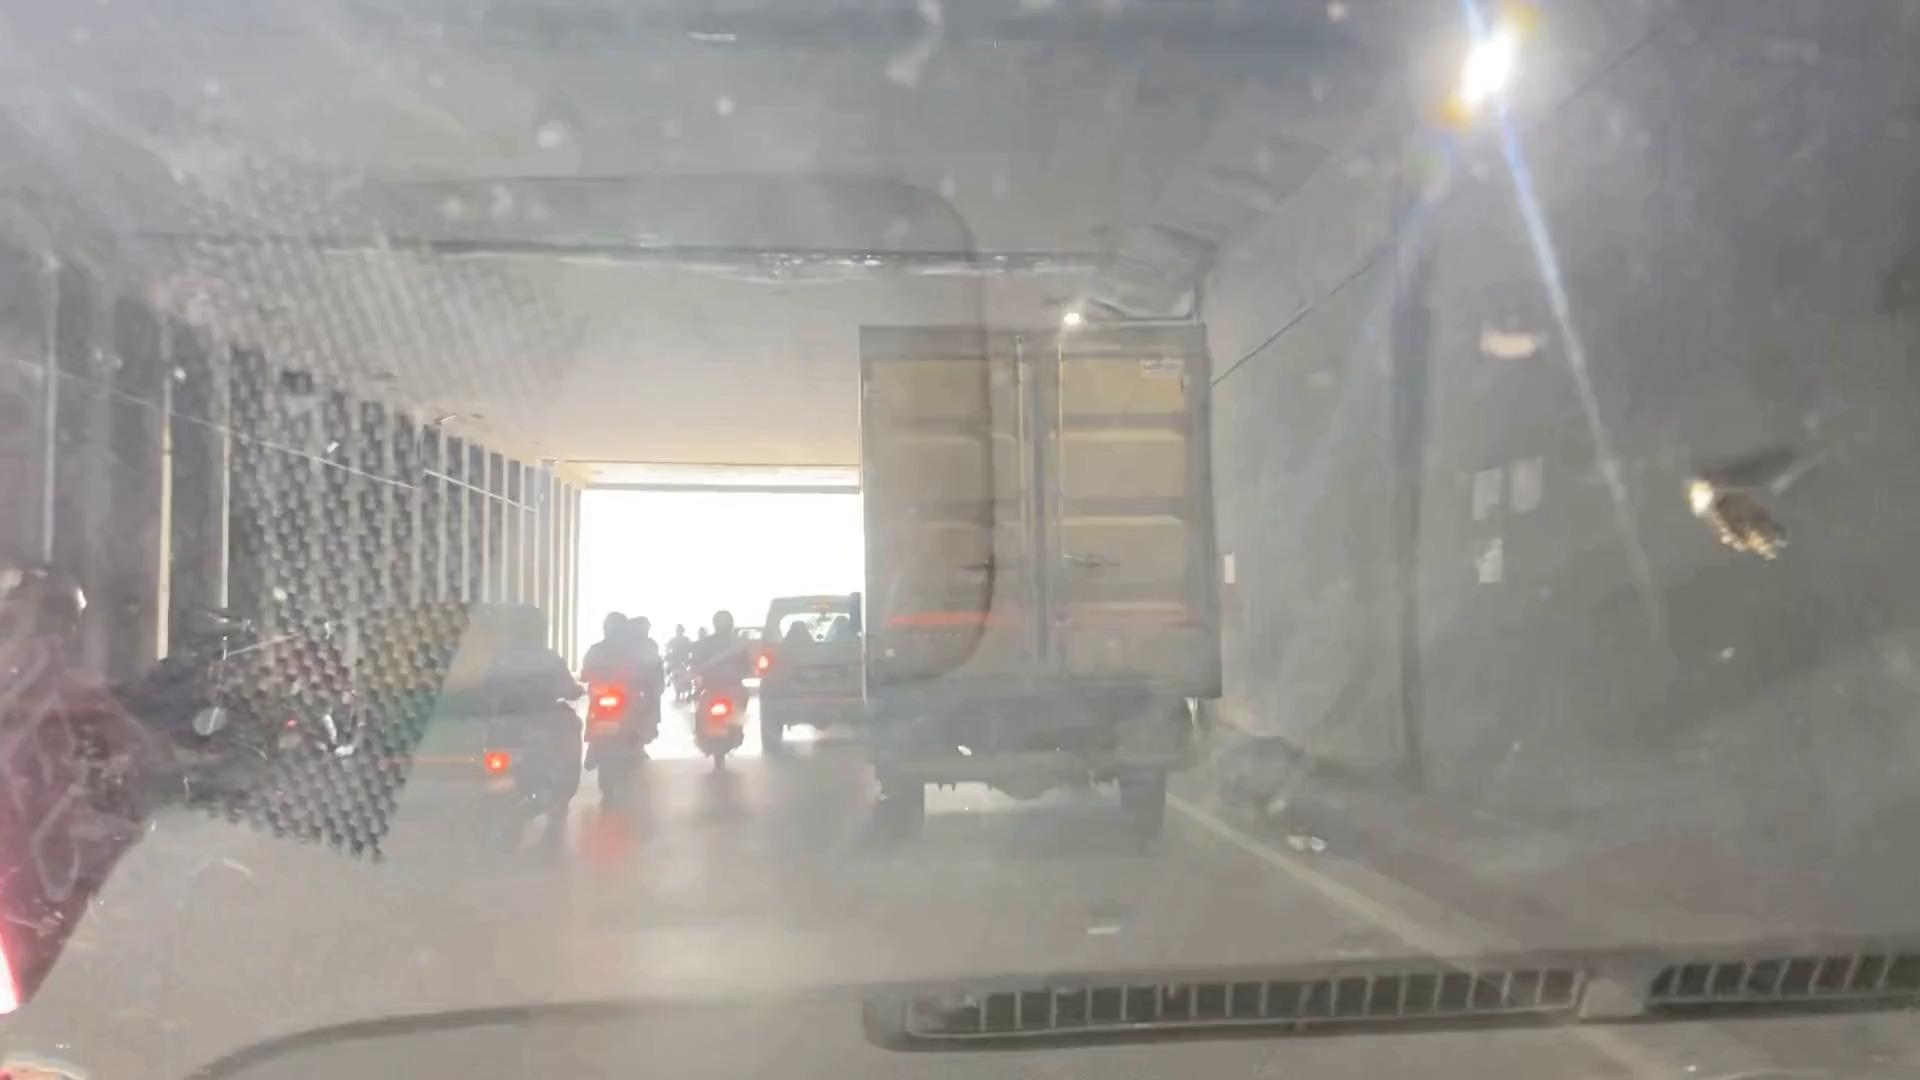HMV: (857, 330, 1222, 843)
LMV: (589, 611, 667, 787), (690, 607, 762, 769)
